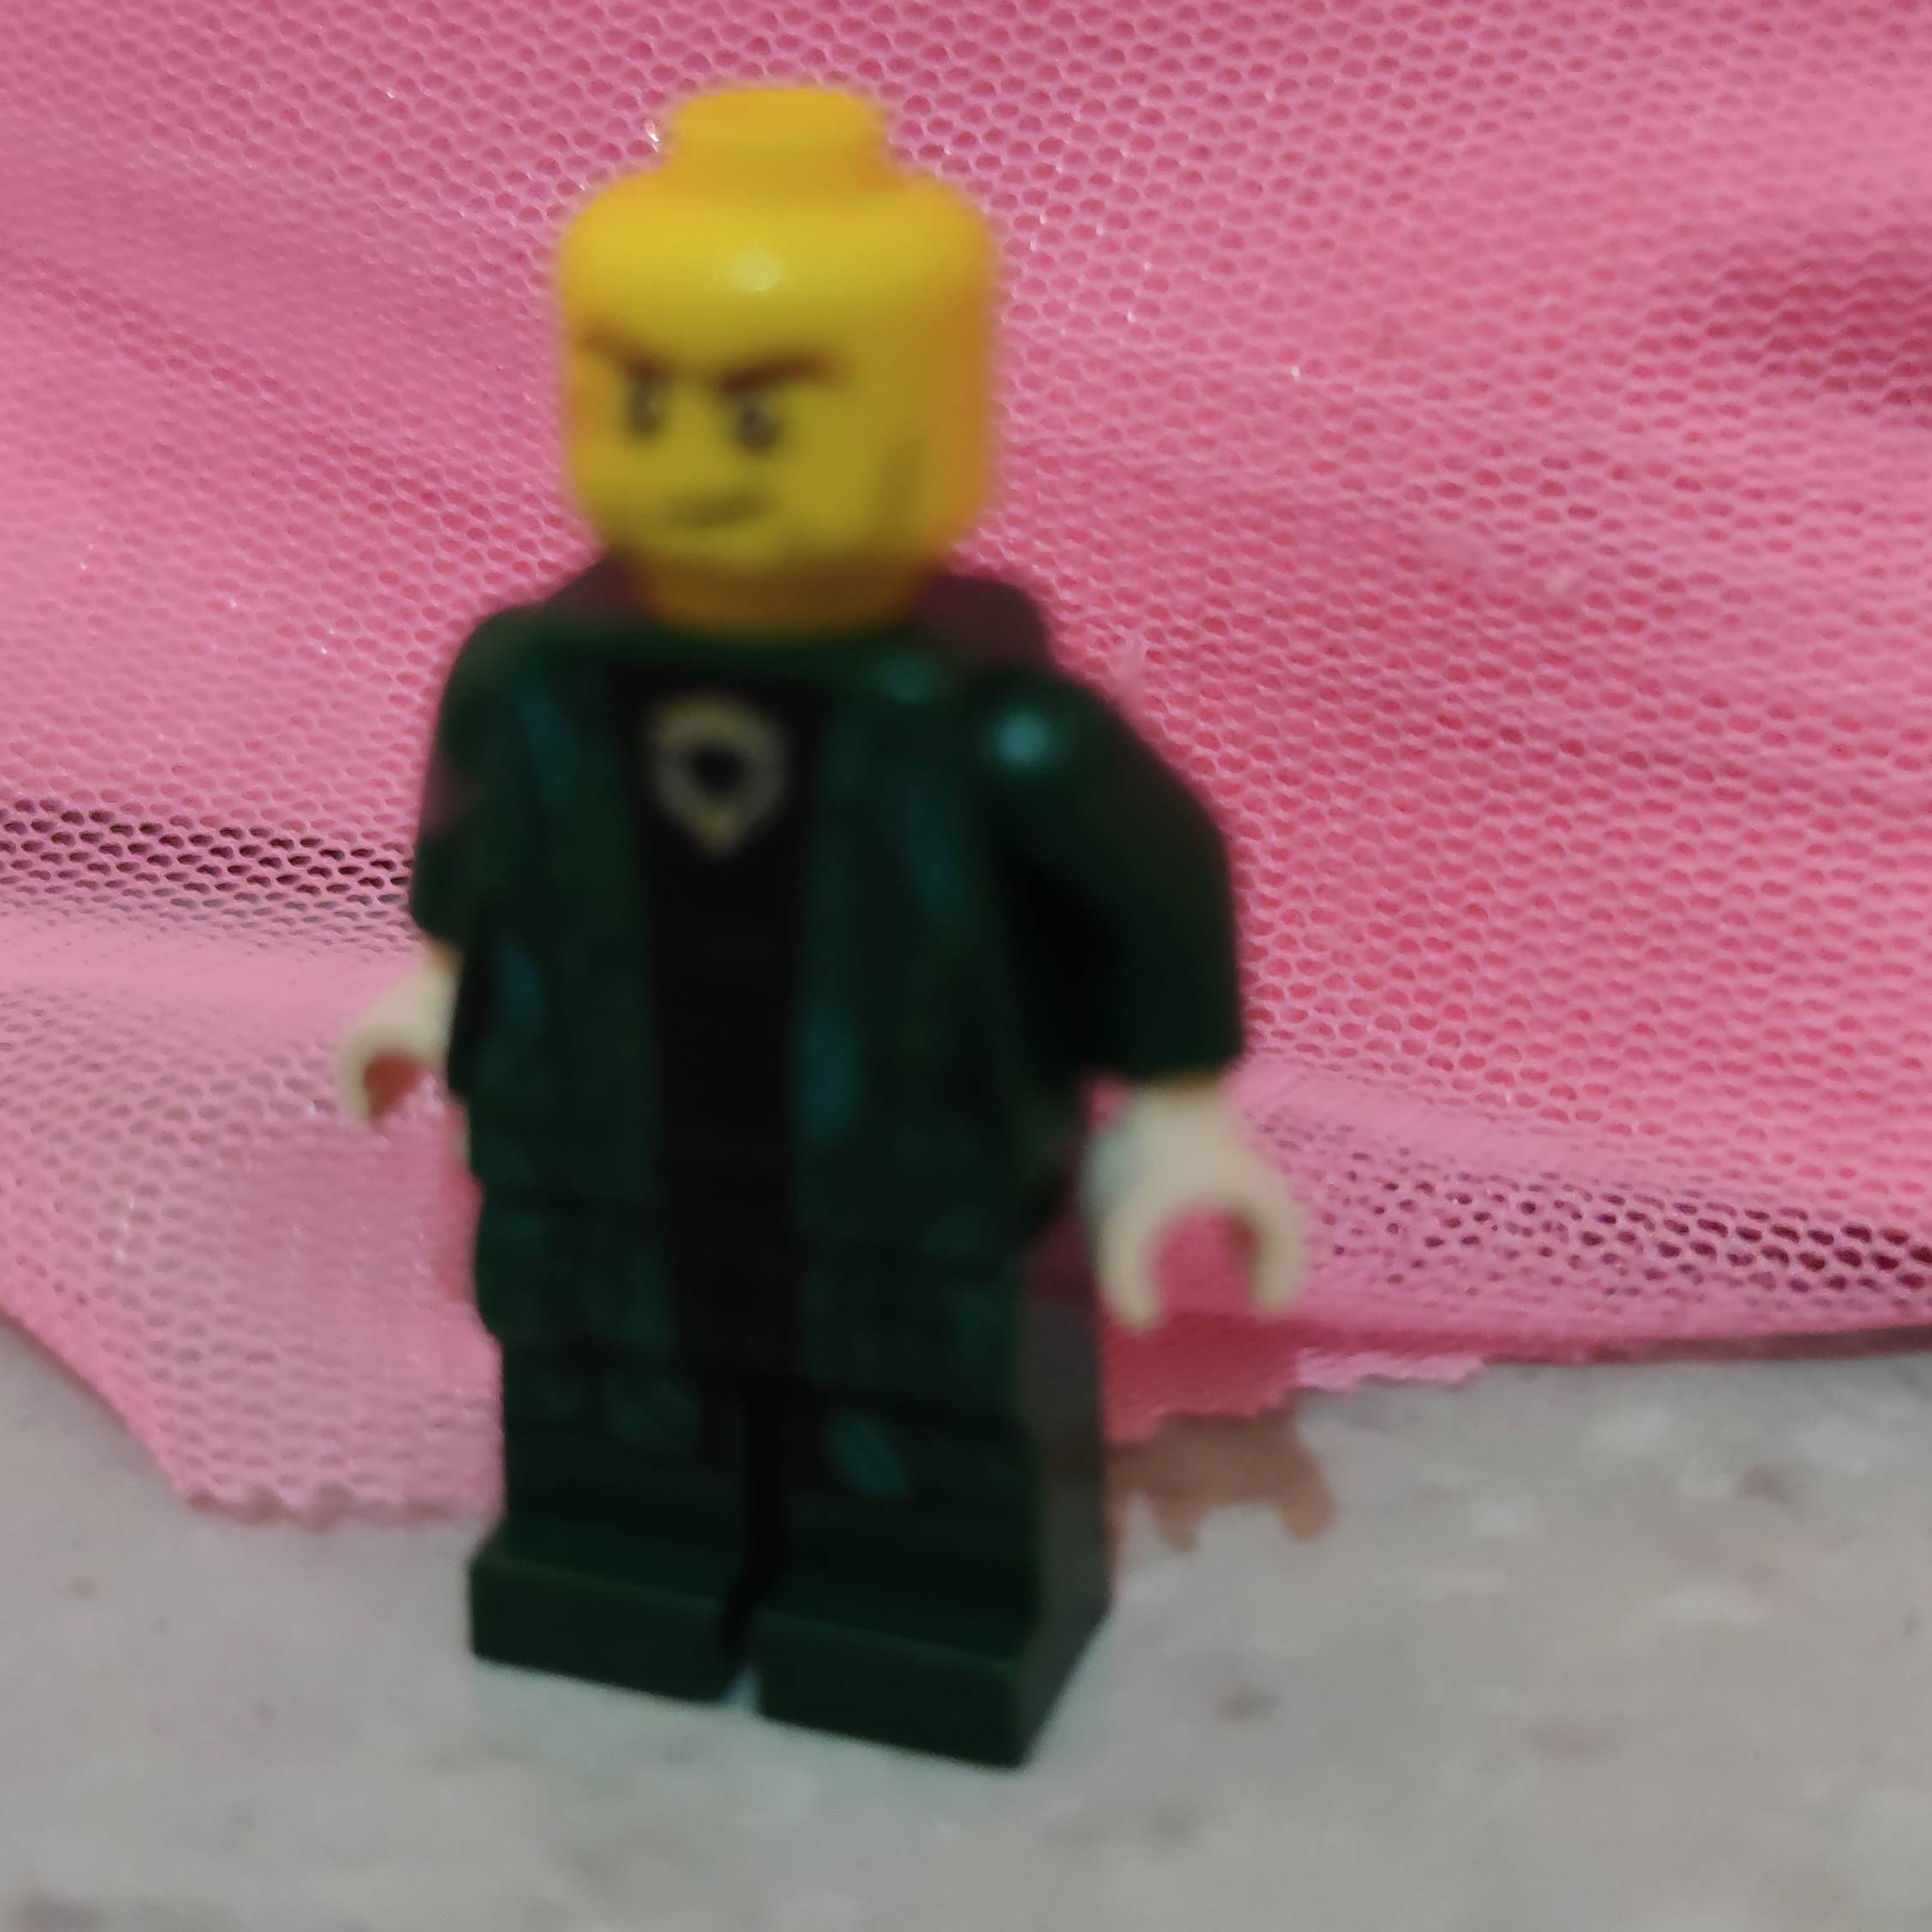lego: (347, 81, 1302, 1773)
